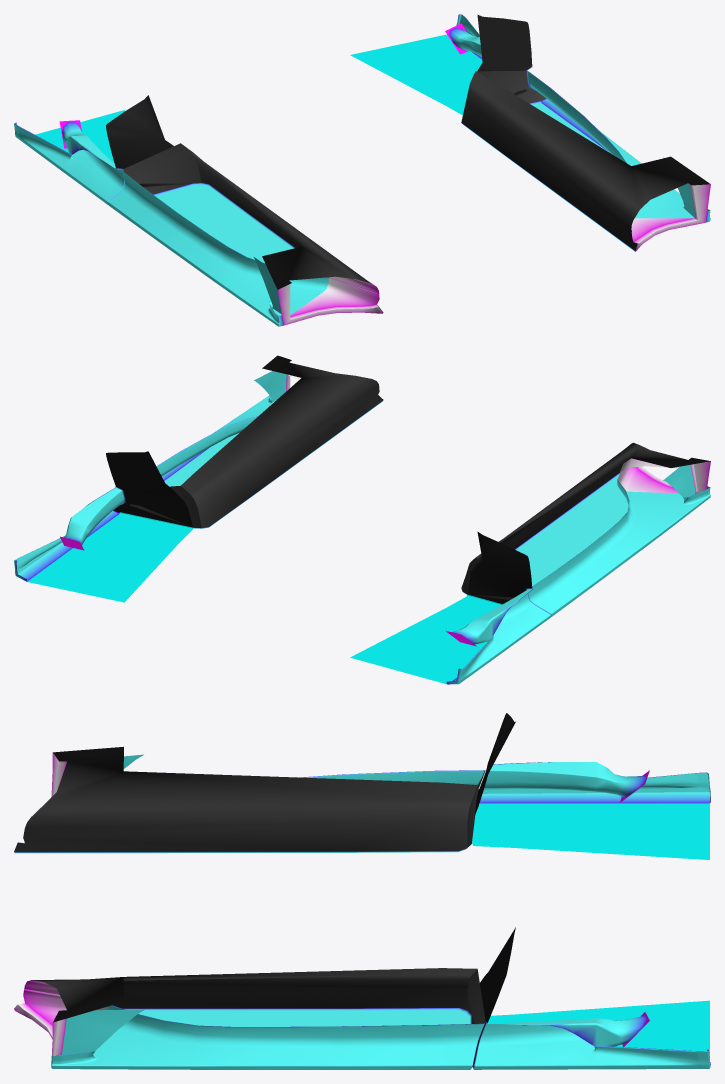
File: Car_Ford_GT_2017_Skirts_SetA.fbx
3 renders of one model, top to bottom at view 1: azimuth 30°, elevation 25°; view 2: azimuth 150°, elevation 25°; view 3: azimuth 270°, elevation 25°, orthographic. The views are drawn at different scales.
Visible parts, largest first — view 1: Skirts 6; view 2: Skirts 6; view 3: Skirts 6.
Part boxes in pixels (x1=…): Skirts 6: x1=14, y1=14, x2=710, y2=326; Skirts 6: x1=14, y1=355, x2=710, y2=684; Skirts 6: x1=14, y1=713, x2=710, y2=1069.
Size of the model in its own units: 1.93 by 0.3559 by 2.03.
